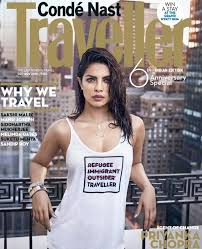indian_female: (68, 51, 135, 114)
